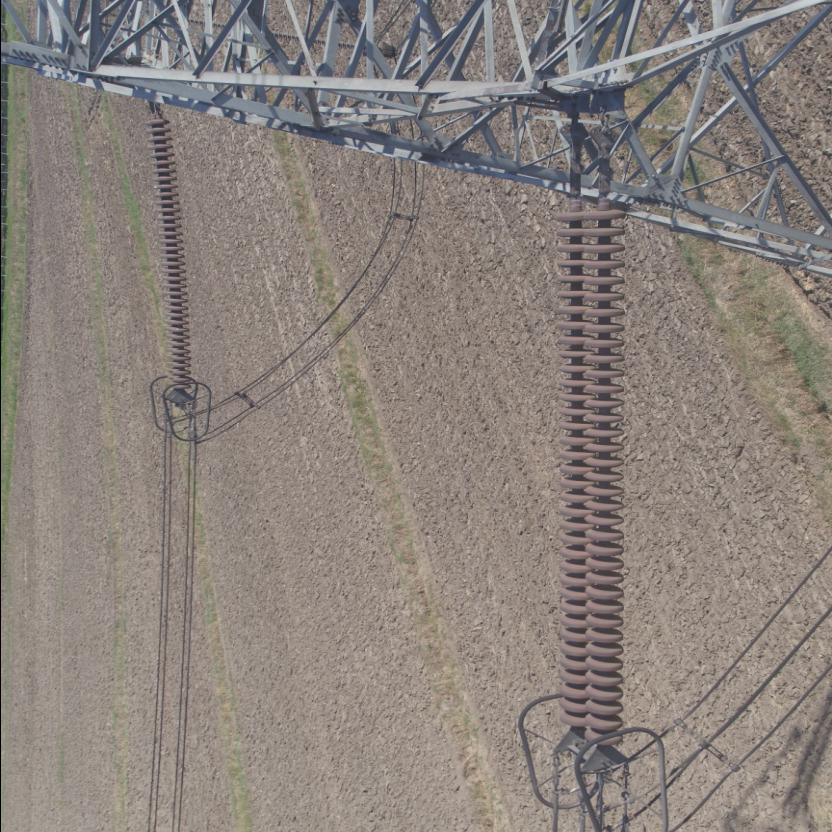insulator: (549, 186, 632, 754), (142, 116, 196, 386)
